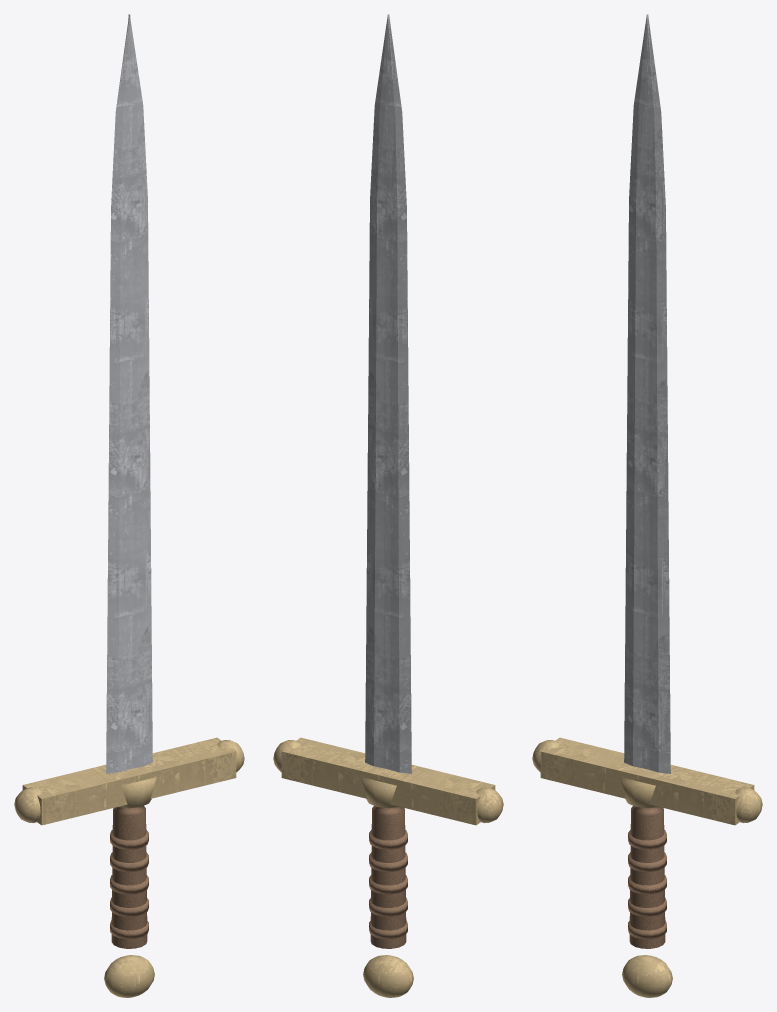
File: sword_1handed.glb
The picture shows the model from 3 angles, left to right: view 1: azimuth 30°, elevation 25°; view 2: azimuth 150°, elevation 25°; view 3: azimuth 330°, elevation 25°; orthographic projection.
Parts seen in each view (by area): view 1: sword_1handed; view 2: sword_1handed; view 3: sword_1handed.
Part boxes in pixels (left/top/right/bottom): sword_1handed: left=14, top=14, right=244, bottom=997; sword_1handed: left=273, top=14, right=503, bottom=997; sword_1handed: left=532, top=14, right=762, bottom=997.
Bounding box in the file's own units: 0.232 × 0.9636 × 0.052.
3 materials, 3 textured.
